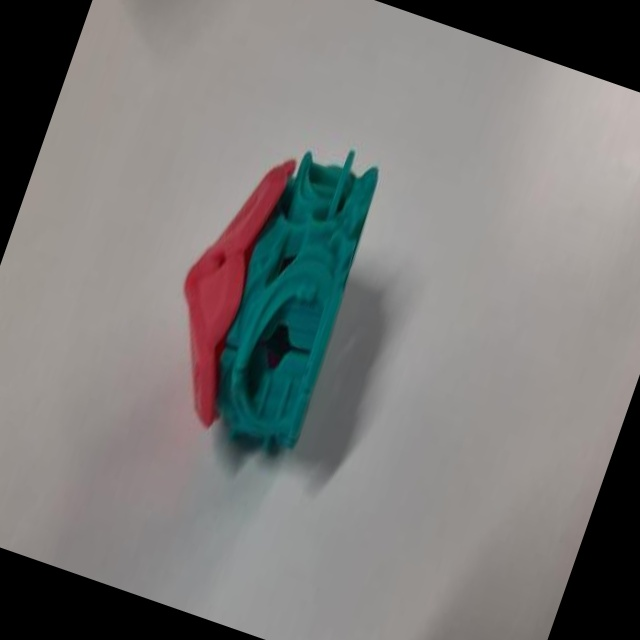House: (127, 95, 409, 483)
